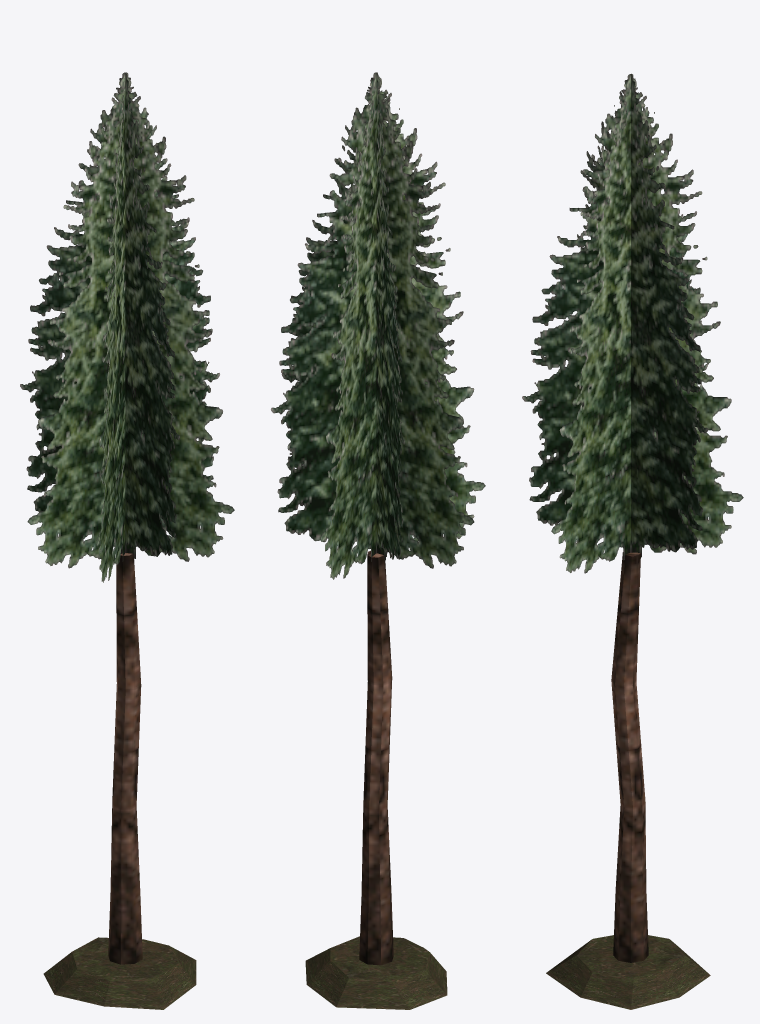
The model's file is tree2.glb.
3 renders of one model, left to right at view 1: azimuth 30°, elevation 25°; view 2: azimuth 150°, elevation 25°; view 3: azimuth 270°, elevation 25°, orthographic.
Visible parts, largest first — view 1: Tree, Bark, Ground; view 2: Tree, Bark, Ground; view 3: Tree, Bark, Ground.
Boxes of the visible parts, x1,y1,x2,y2 form: Tree: (20,72,234,582); Bark: (108,553,142,964); Ground: (43,937,196,1009); Tree: (271,72,485,579); Bark: (359,550,393,965); Ground: (305,936,447,1009); Tree: (522,73,743,573); Bark: (611,552,648,962); Ground: (546,935,710,1009).
Bounding box in the file's own units: 200 × 878 × 200.
Materials: 3 (3 with a texture image).
